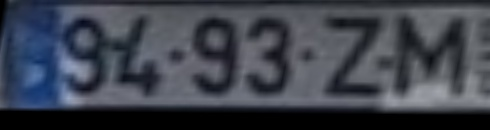3: (243, 15, 297, 98)
4: (113, 13, 168, 101)
9: (186, 14, 241, 98), (59, 15, 112, 99)
M: (391, 14, 475, 101)
Z: (321, 16, 390, 101)
